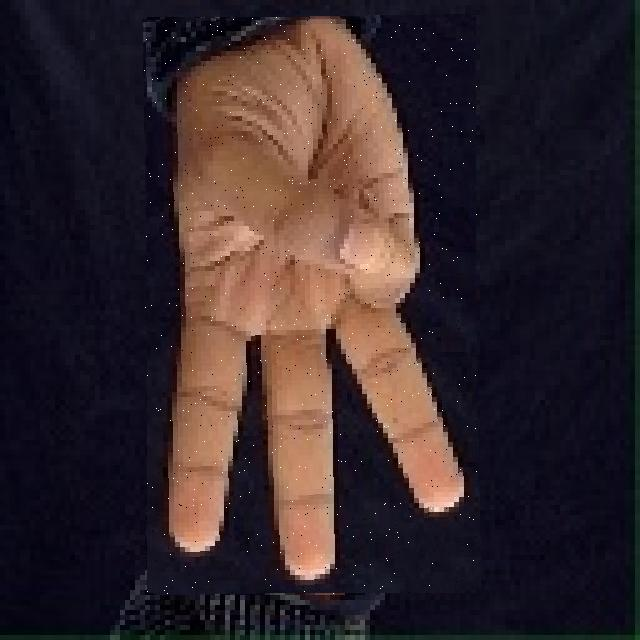Please: (144, 16, 478, 594)
